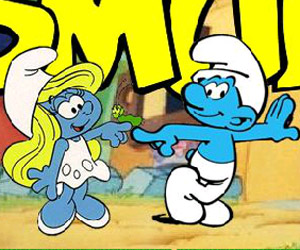smurf: (132, 33, 299, 228), (1, 44, 133, 236)
